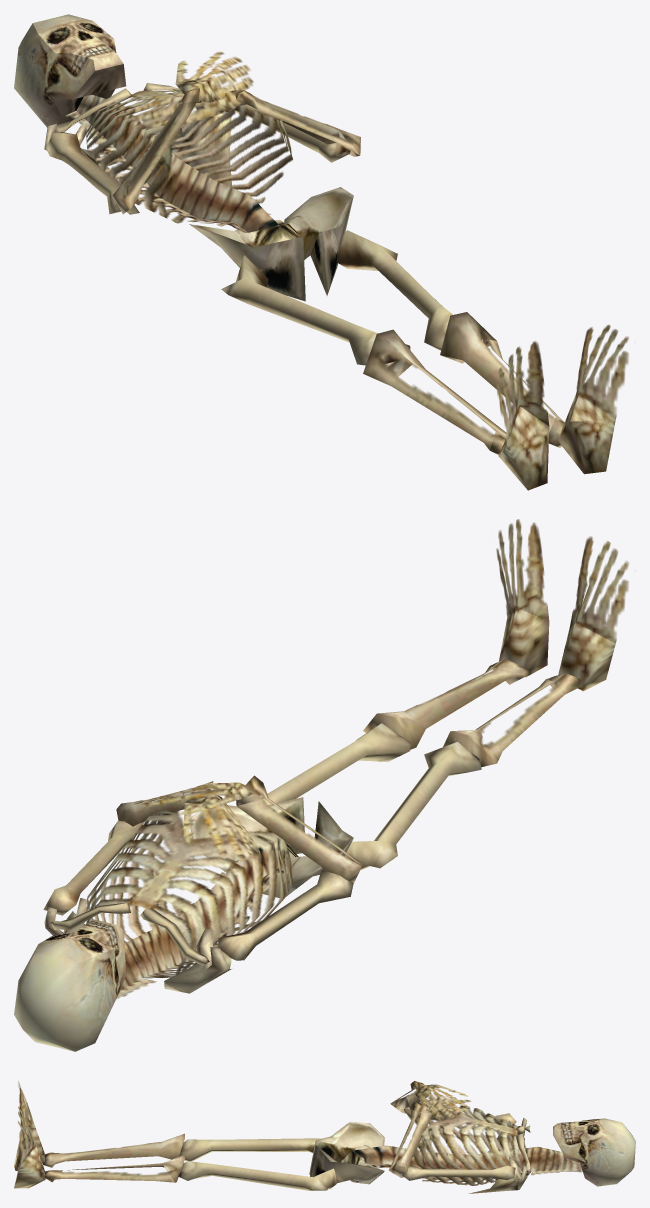
The model's file is d_sk_lay1.glb.
3 renders of one model, top to bottom at view 1: azimuth 30°, elevation 25°; view 2: azimuth 150°, elevation 25°; view 3: azimuth 270°, elevation 25°, orthographic. The views are drawn at different scales.
Visible parts, largest first — view 1: d_sk_lay1-col; view 2: d_sk_lay1-col; view 3: d_sk_lay1-col.
Boxes of the visible parts, <box> form: d_sk_lay1-col: <box>14,14,628,490</box>; d_sk_lay1-col: <box>14,519,628,1051</box>; d_sk_lay1-col: <box>14,1081,635,1193</box>.
Size of the model in its own units: 0.4733 by 0.2916 by 1.77.
2 materials, 2 textured.
